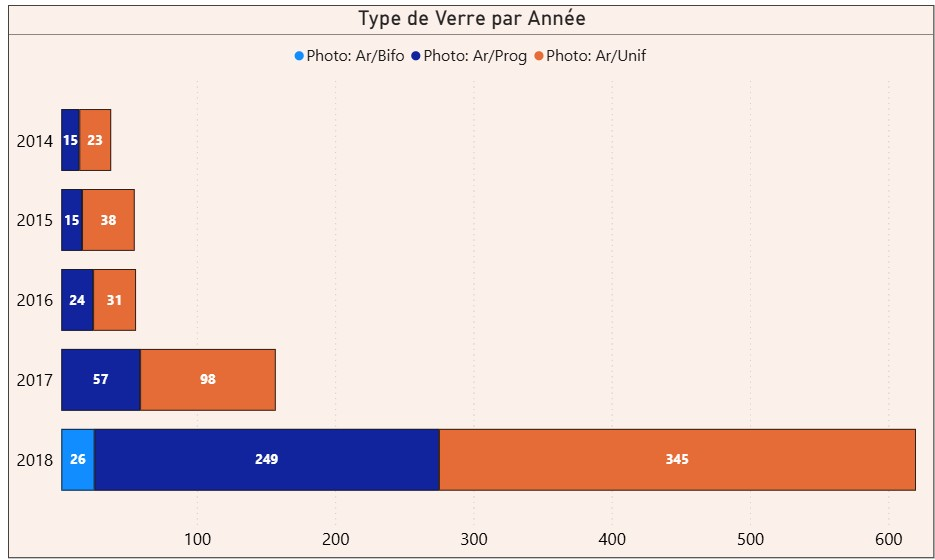

What the dashboard file says about the page in this screenshot:
{"tool":"powerbi","page":{"name":"Type de Verre par An","canvas":[1280,720],"ordinal":2},"visuals":[{"type":"barChart","title":"Type de Verre par Année","fields":{"Category":["Calendrier.Annee"],"Series":["2014-2018.Type Verre"],"Y":["CountNonNull(2014-2018.Type Verre)"]},"box":[92.9,27.1,1017.1,607.1],"z":0}]}

Visuals, with their boxes on the page's 1280x720 design canvas (x1, y1, x2, y2). These are canvas units, not pixel positions in the 935x560 screenshot, which may show the page scaled, cropped or inside an application window:
"Type de Verre par Année" barChart: x1=93, y1=27, x2=1110, y2=634
